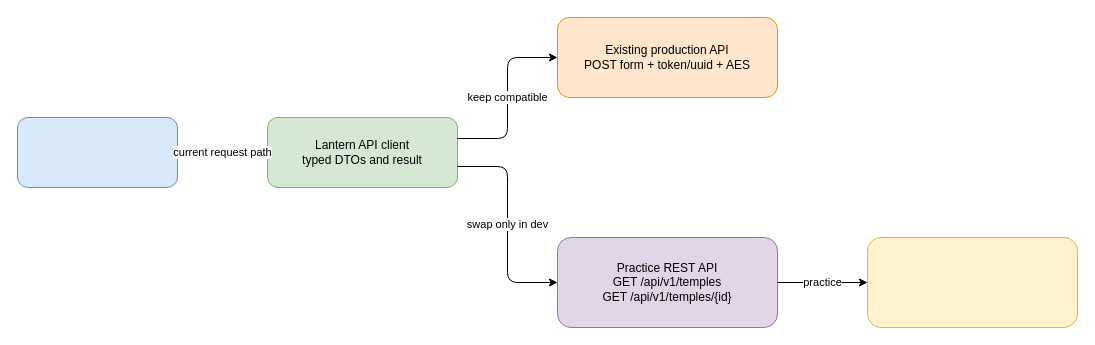
This 1095x345 diagram has some shape labels left out. The centre of each missing label's shape, as x and y in pixels:
Exercises filter, paging, cancellation, errors, tests: pixel 972 282
Lantern UI pull to refresh: pixel 97 152
